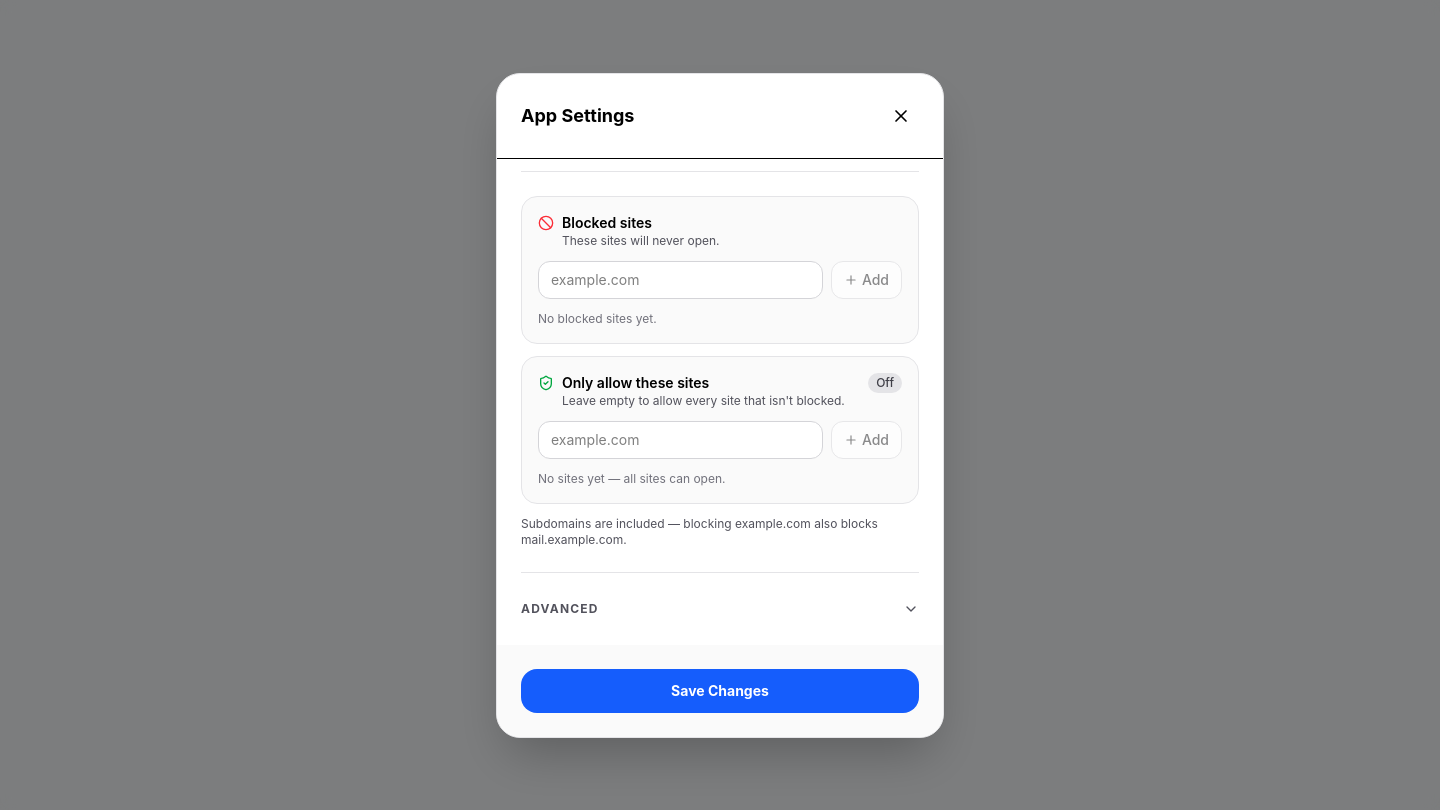
Settings › Only accept scanner-speed input › is on by default and shows the recommended description
(page scrolled)
Click the button "Advanced" at (560, 608), box [521,596,919,620]
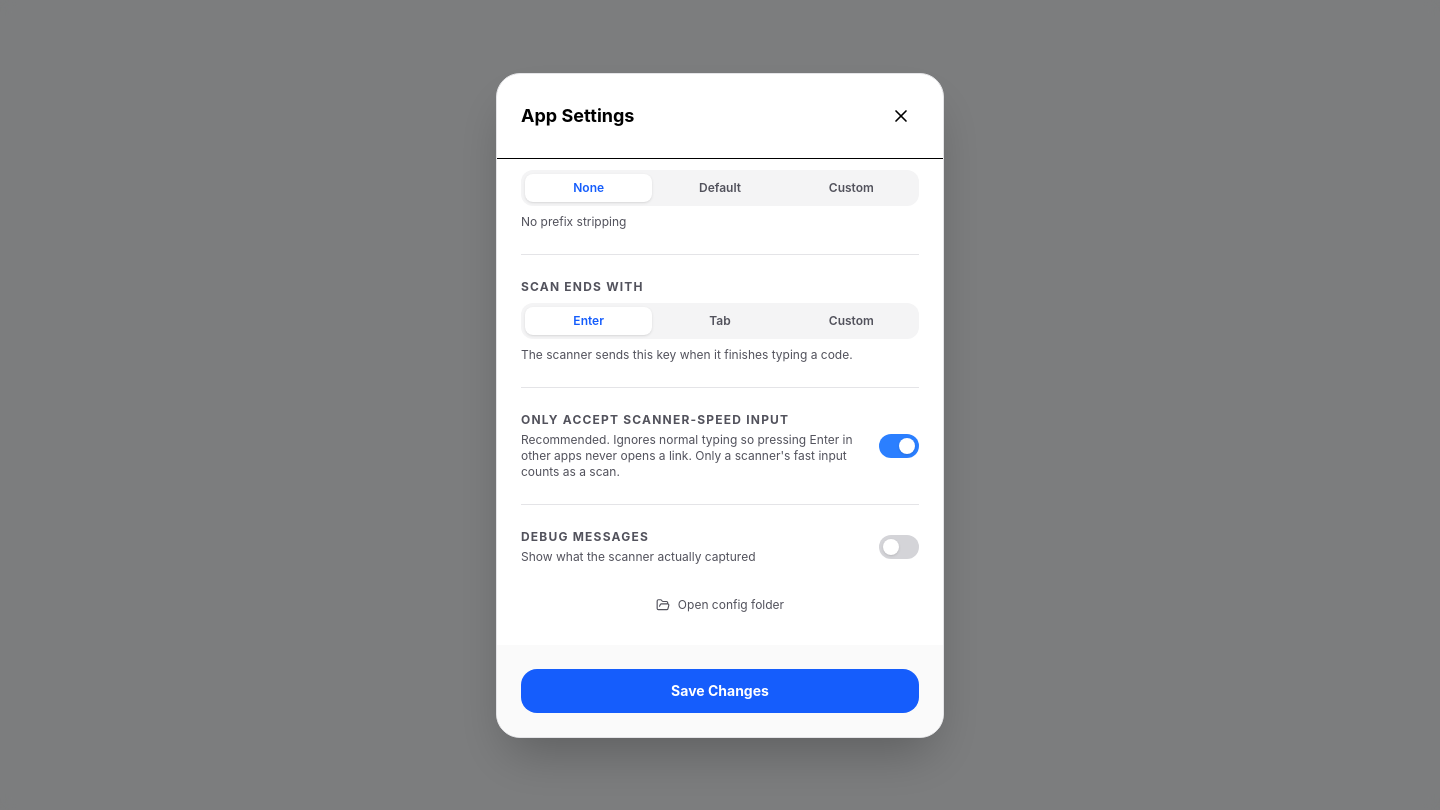
Check: the text "Ignores normal typing so pressing Enter in other apps never opens a link" is shown, box [521,432,853,478]
